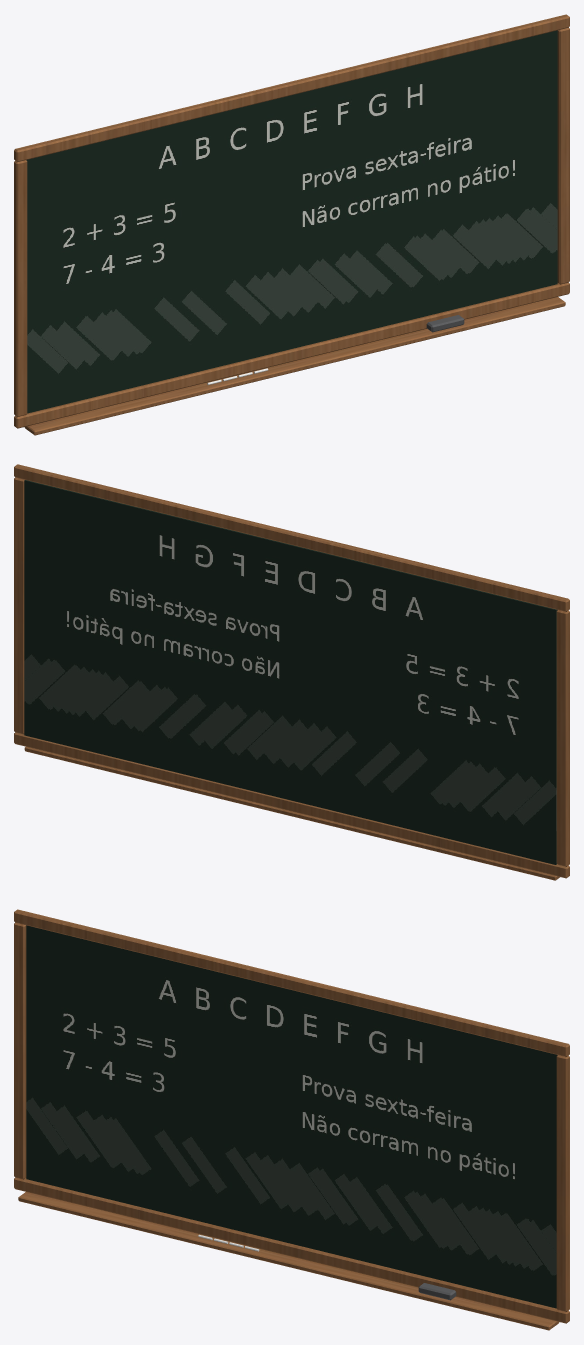
The model's file is lousa_escola.glb.
The picture shows the model from 3 angles, top to bottom: view 1: azimuth 30°, elevation 25°; view 2: azimuth 150°, elevation 25°; view 3: azimuth 330°, elevation 25°; orthographic projection.
Visible parts, largest first — view 1: lousa_escola_lousa_img, lousa_escola_madeira; view 2: lousa_escola_lousa_img, lousa_escola_madeira; view 3: lousa_escola_lousa_img, lousa_escola_madeira.
Boxes of the visible parts, left/top/right/bottom form: lousa_escola_lousa_img: left=26, top=30, right=557, bottom=413; lousa_escola_madeira: left=14, top=14, right=569, bottom=435; lousa_escola_lousa_img: left=24, top=480, right=557, bottom=864; lousa_escola_madeira: left=14, top=464, right=569, bottom=880; lousa_escola_lousa_img: left=26, top=925, right=557, bottom=1308; lousa_escola_madeira: left=14, top=909, right=569, bottom=1330.
Size of the model in its own units: 2.5 by 1.22 by 0.08.
Materials: 4 (3 with a texture image).
